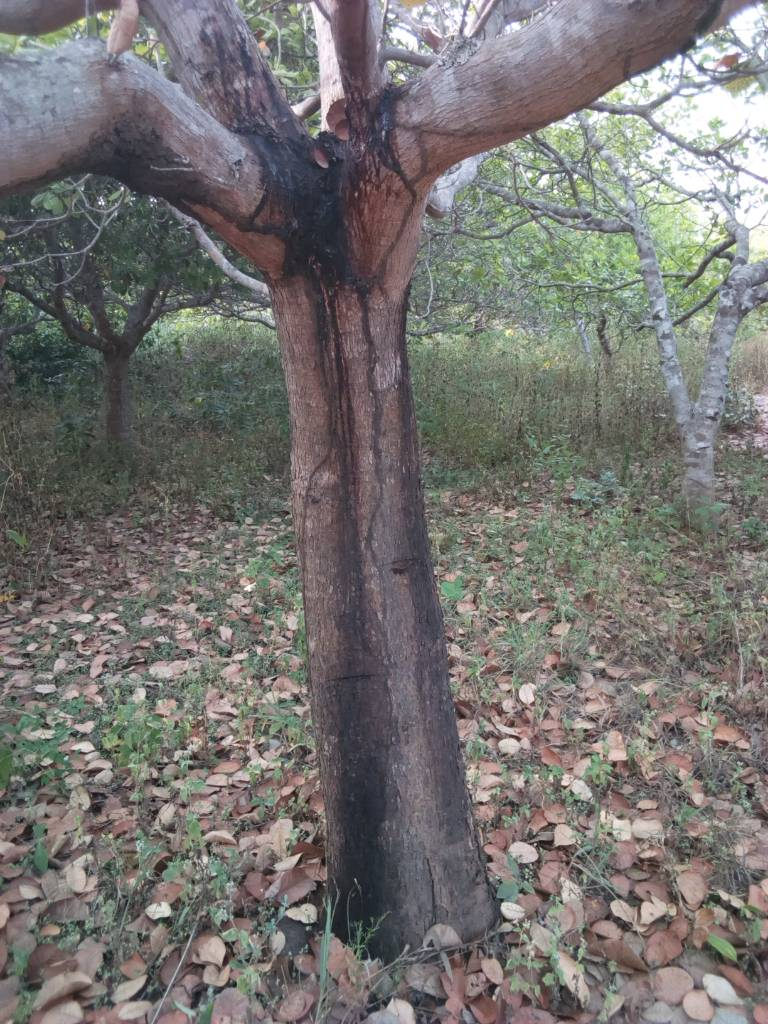Gommose: (247, 130, 350, 263), (329, 739, 390, 930), (377, 88, 397, 167)
